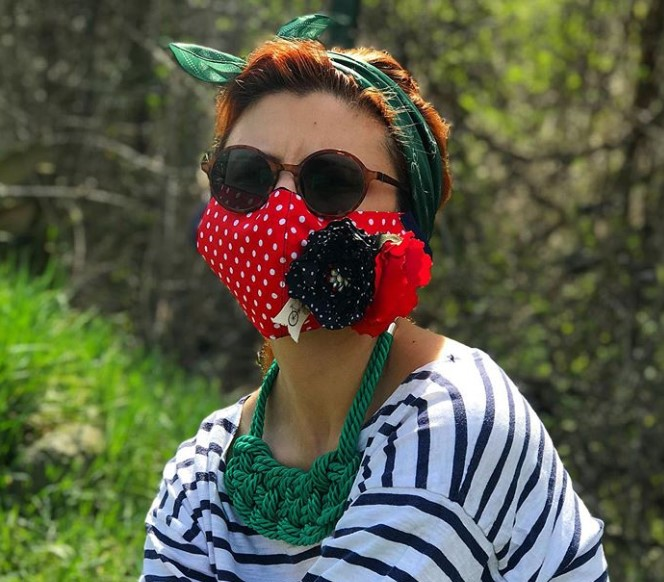face_with_mask: (193, 58, 438, 344)
